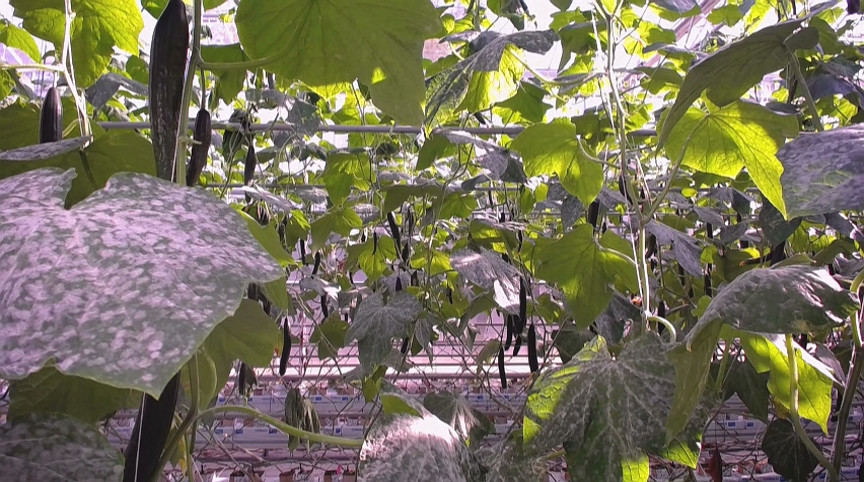cucumber: (150, 1, 189, 182), (122, 374, 180, 481), (188, 108, 214, 184), (36, 84, 65, 146), (243, 144, 258, 202), (278, 319, 291, 379), (527, 327, 540, 375)
